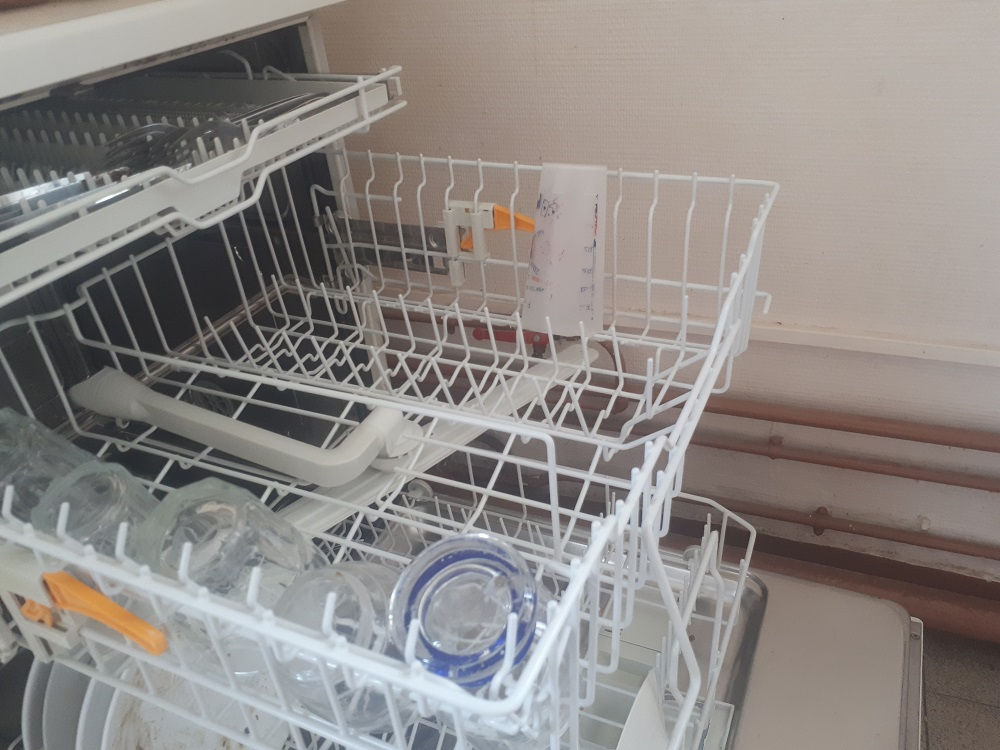ecocup: (520, 150, 605, 334)
